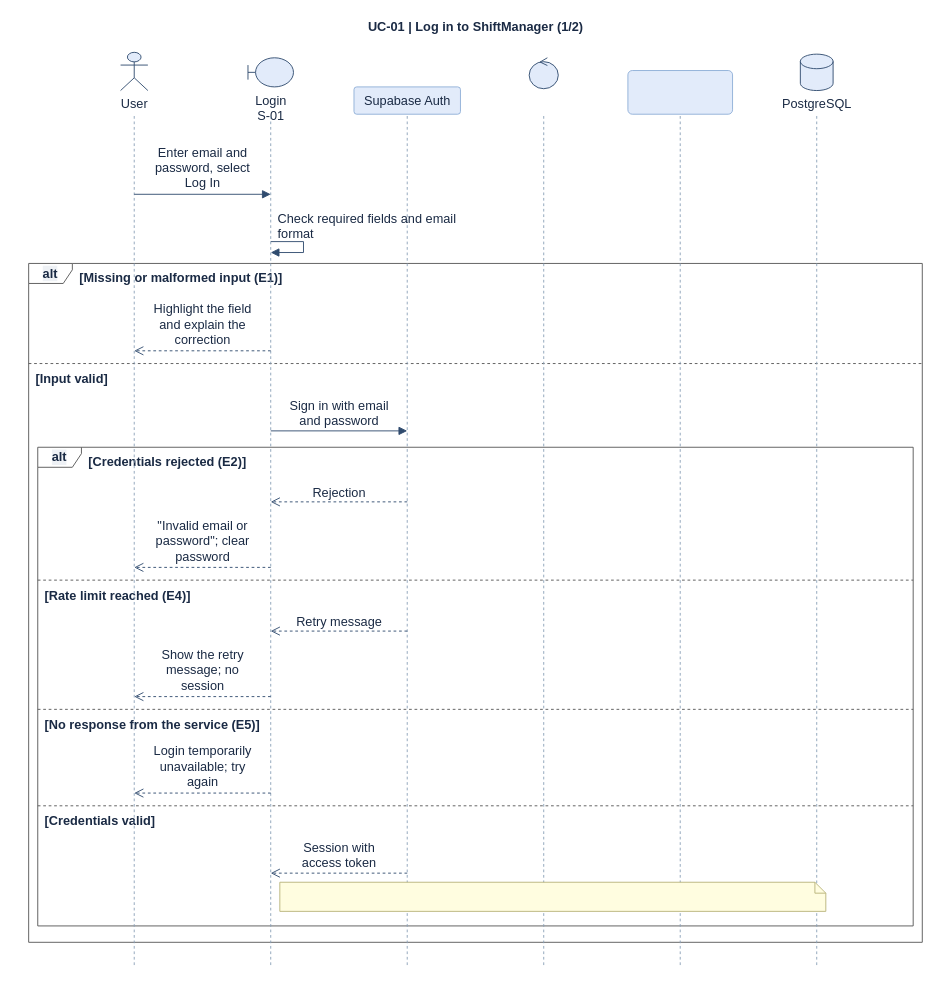
The diagram is 950 pixels wide and 983 high, and some of its shapes have lost their labels. Each missing label, with the centre of its shape:
":IdentityAccess Service" goes at point 680,92.
"Express API" goes at point 543,73.
"The profile request continues in part 2/2." goes at point 552,896.
